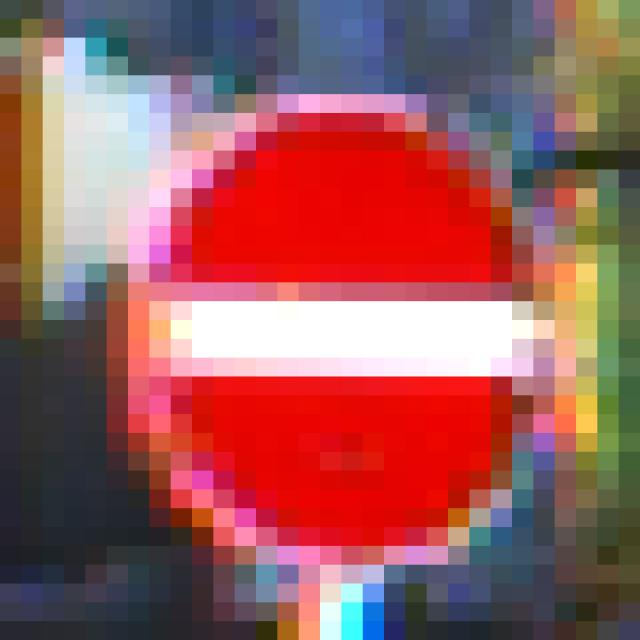No Entry: (108, 95, 534, 547)
